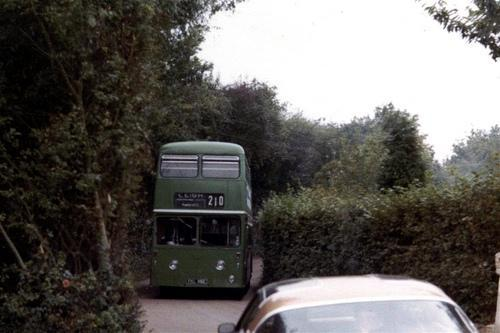bus: (149, 139, 253, 301)
car: (217, 274, 481, 330)
